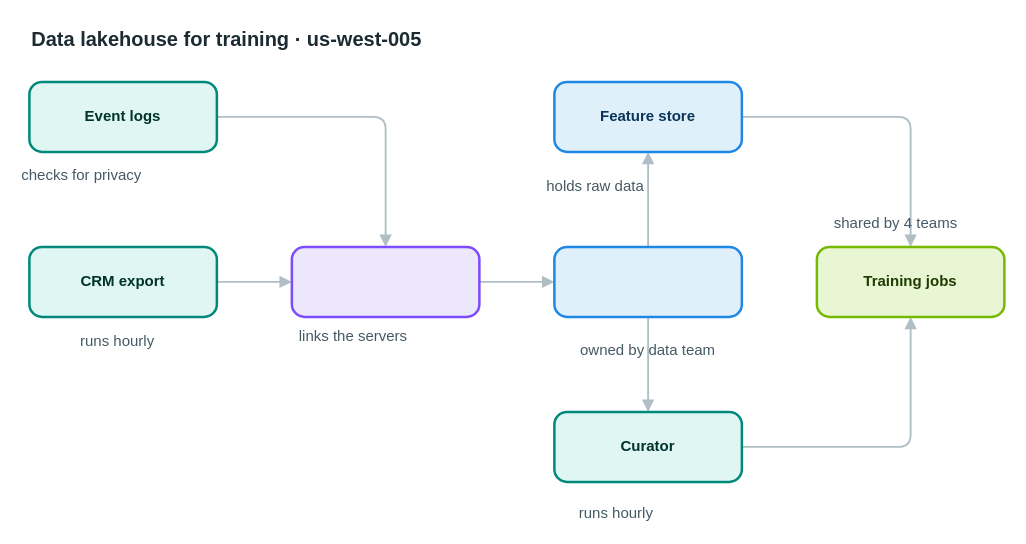
The diagram is 1026 pixels wide and 544 high, and some of its shapes have lost their labels. The centre of each missing label's shape, as x and y in pixels:
"Lakehouse" belongs at point 647,281.
"Stream bus" belongs at point 385,281.
